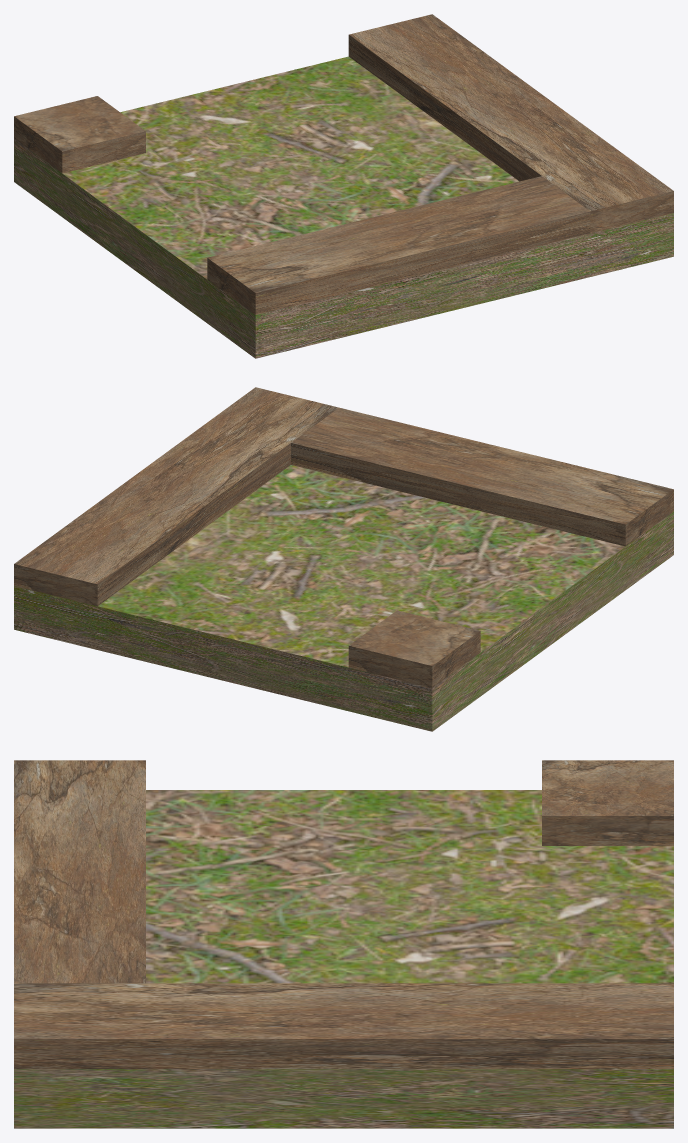
File: Corner.glb
3 views of the same model, one above another, from view 1: azimuth 30°, elevation 25°; view 2: azimuth 150°, elevation 25°; view 3: azimuth 270°, elevation 25° (orthographic). The views are drawn at different scales.
Visible parts, largest first — view 1: Corner, Cube.008, Cube.006, Cube.005; view 2: Corner, Cube.008, Cube.006, Cube.005; view 3: Corner, Cube.008, Cube.006, Cube.005.
Boxes of the visible parts, left/top/right/bottom form: Corner: left=14, top=56, right=673, bottom=358; Cube.008: left=348, top=14, right=673, bottom=233; Cube.006: left=207, top=176, right=590, bottom=314; Cube.005: left=14, top=96, right=145, bottom=173; Corner: left=14, top=465, right=673, bottom=731; Cube.008: left=14, top=387, right=338, bottom=606; Cube.006: left=291, top=407, right=673, bottom=546; Cube.005: left=348, top=610, right=480, bottom=687; Corner: left=14, top=790, right=673, bottom=1128; Cube.008: left=14, top=983, right=673, bottom=1068; Cube.006: left=14, top=760, right=145, bottom=983; Cube.005: left=542, top=760, right=673, bottom=845.
Size of the model in its own units: 1 by 0.15 by 1.
2 materials, 2 textured.
